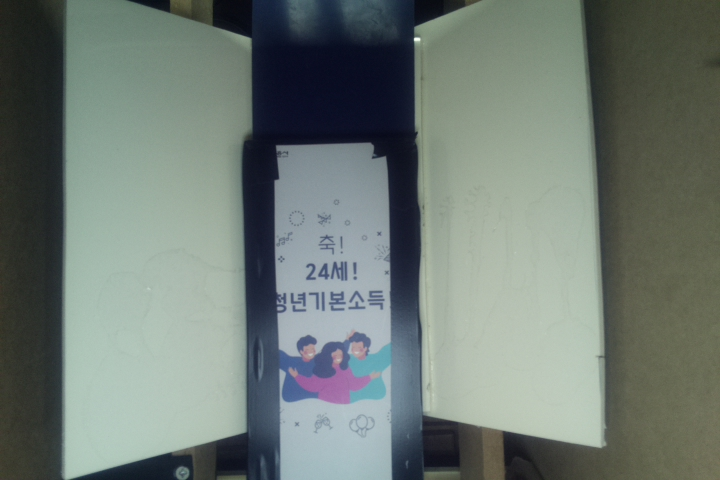book: (243, 131, 424, 480)
